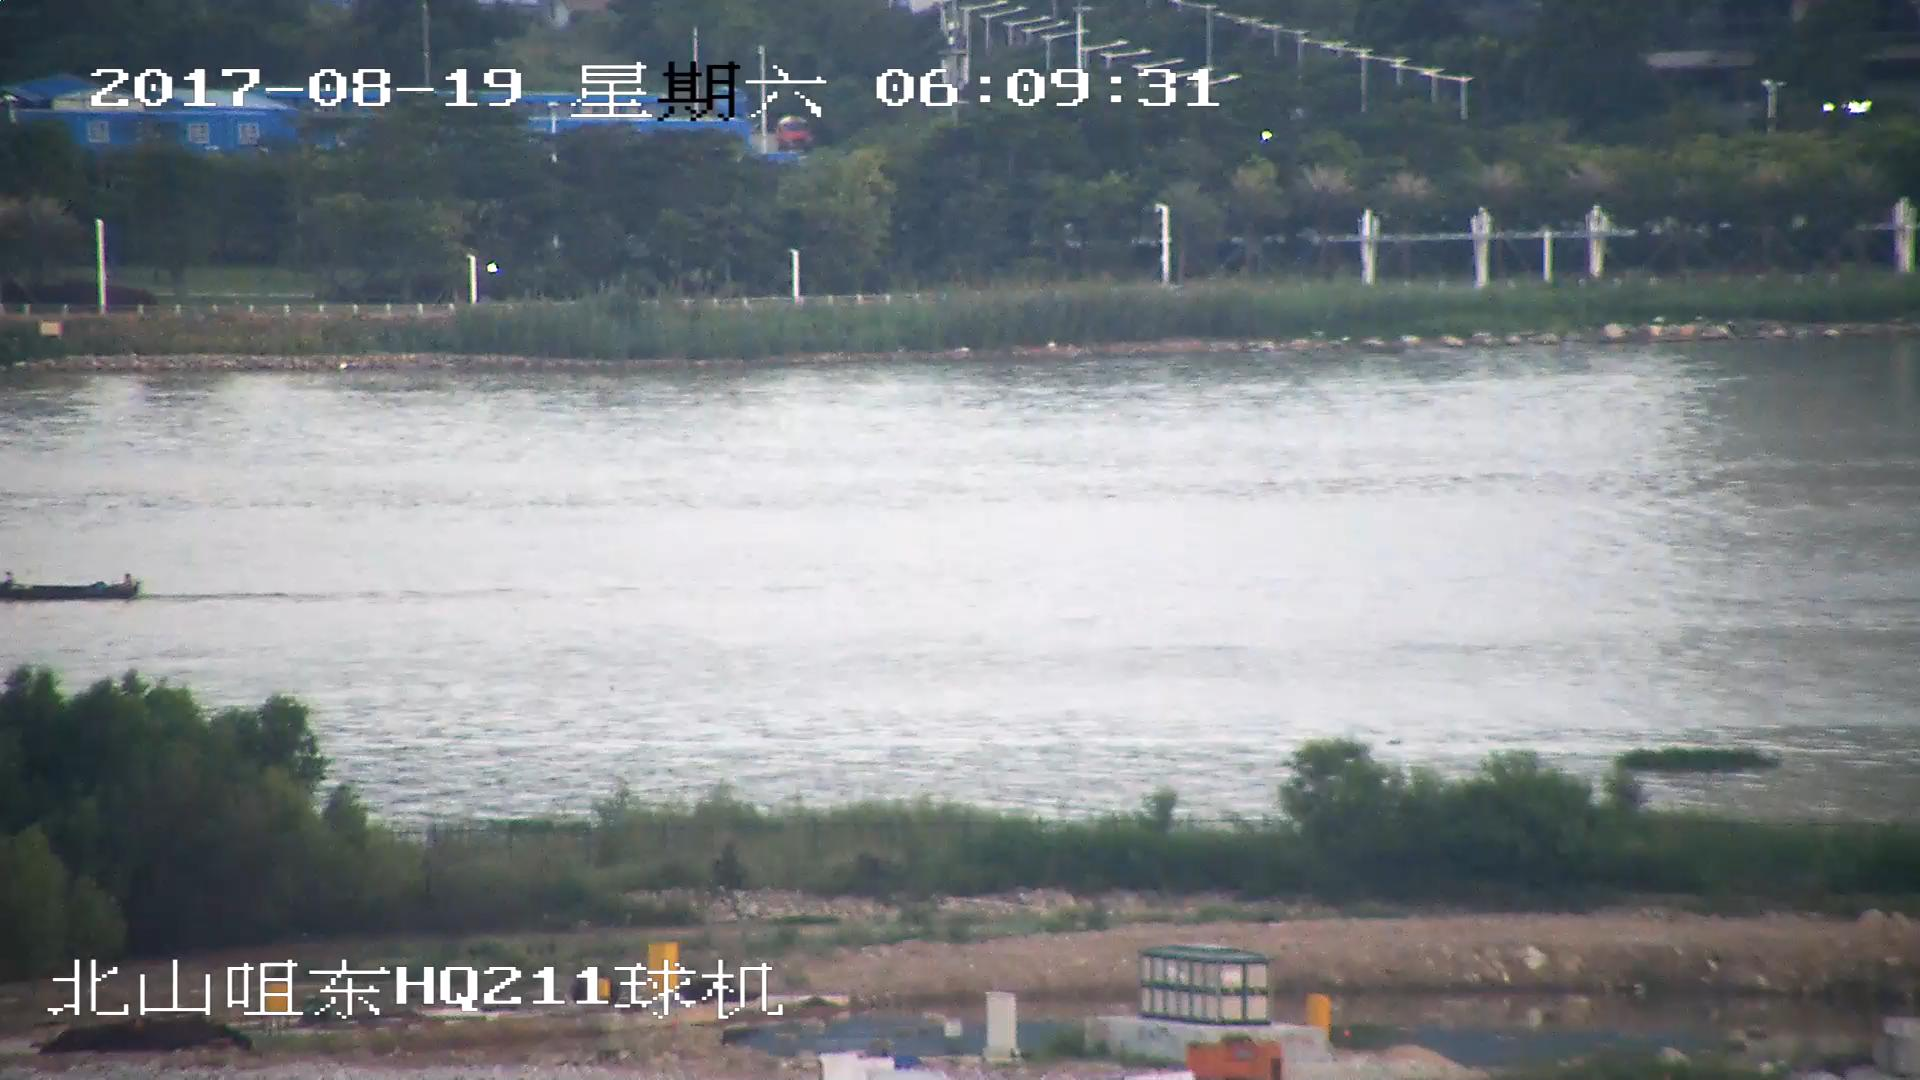fishing boat: (1, 568, 147, 606)
